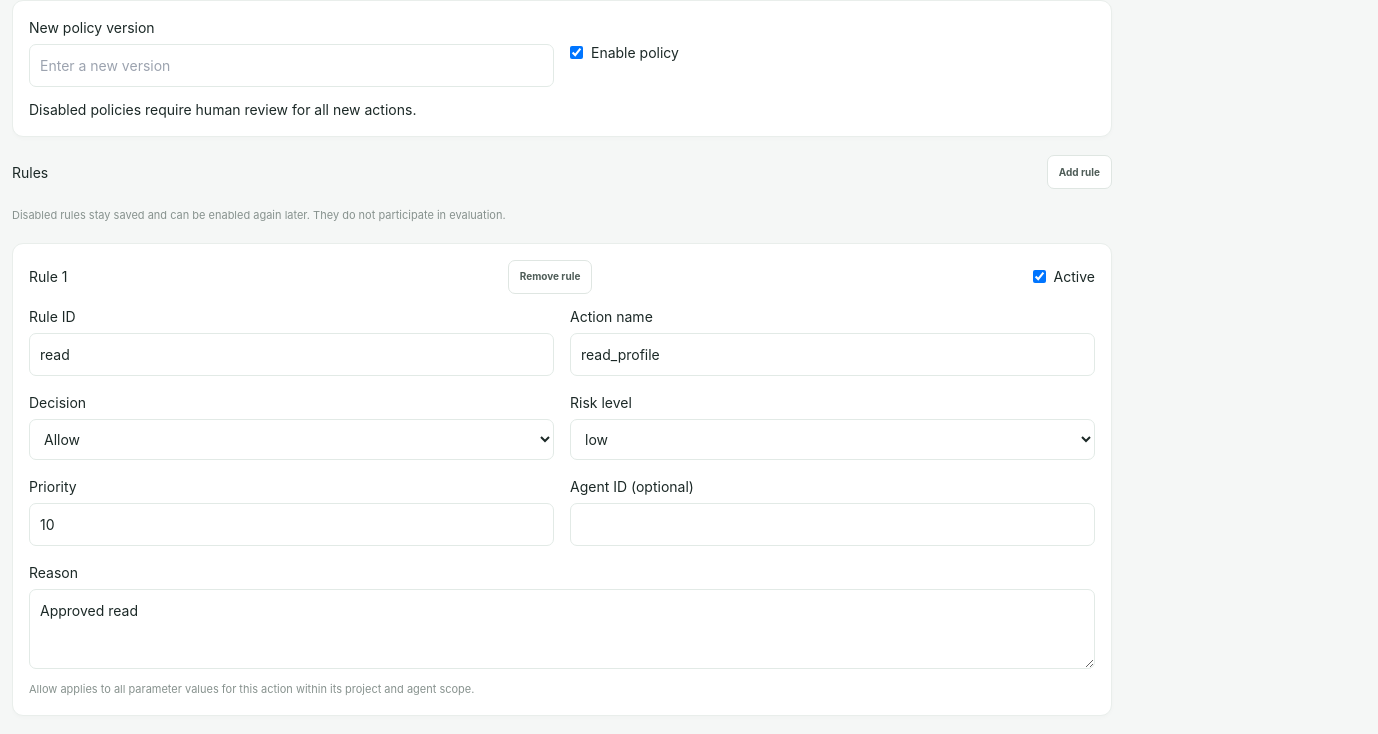
Test: reload replaces a stale draft with the current backend policy
The width and height of the screenshot is (1378, 734).
(page scrolled)
Check: the field showing "read_profile" is shown, box [570,333,1095,376]
Replace the text in the text box labelled "Reason" with "Stale draft": (562, 629) [29,589,1095,669]
(page scrolled)
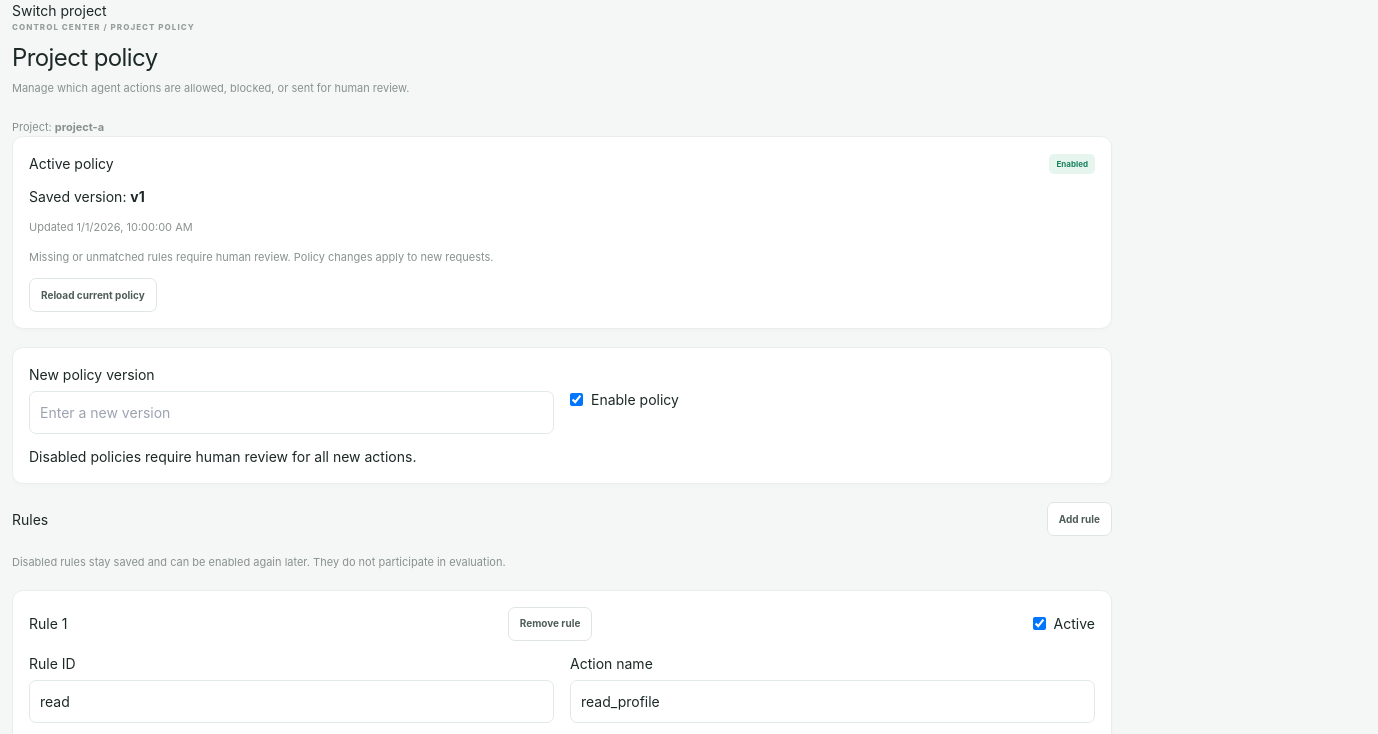
Click the button "Reload current policy": (93, 295) [29,278,157,312]
(page scrolled)
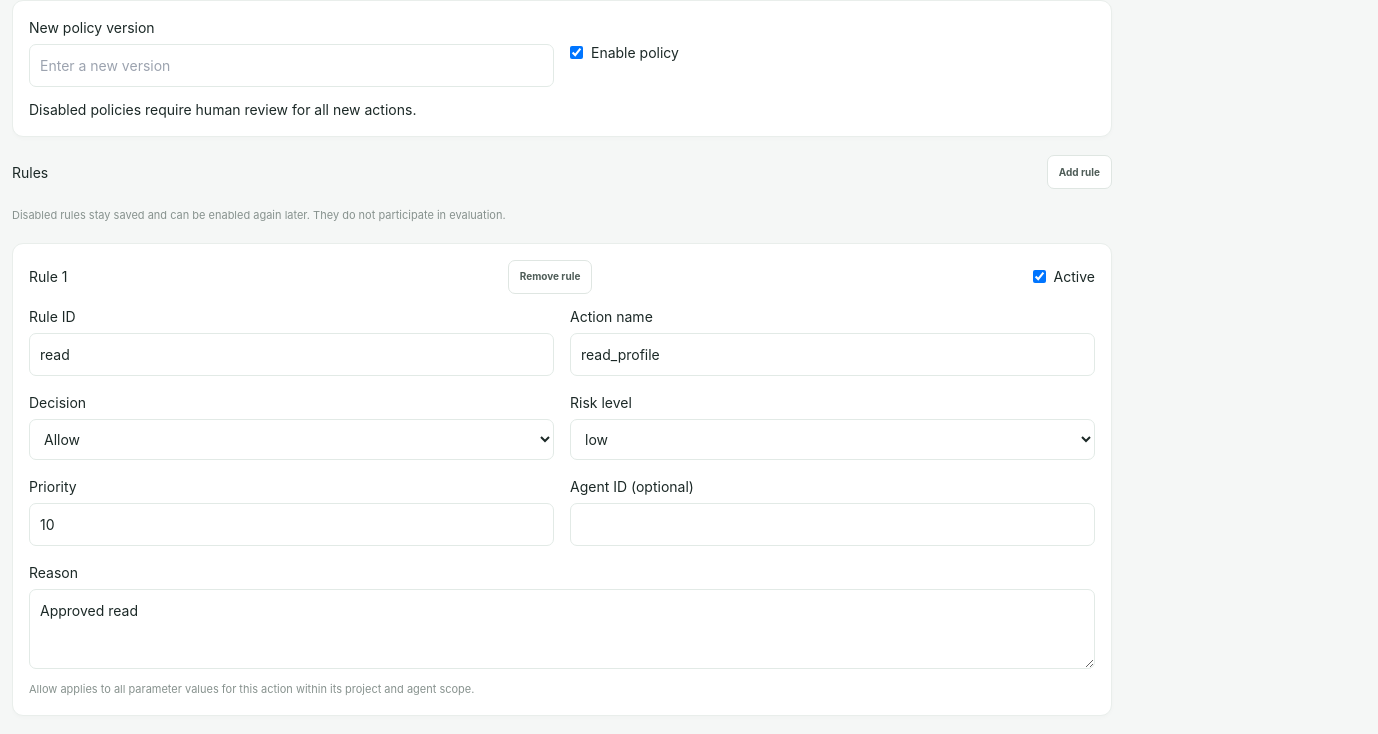
Check: the text box labelled "Reason" holds "Approved read", box [29,589,1095,669]
